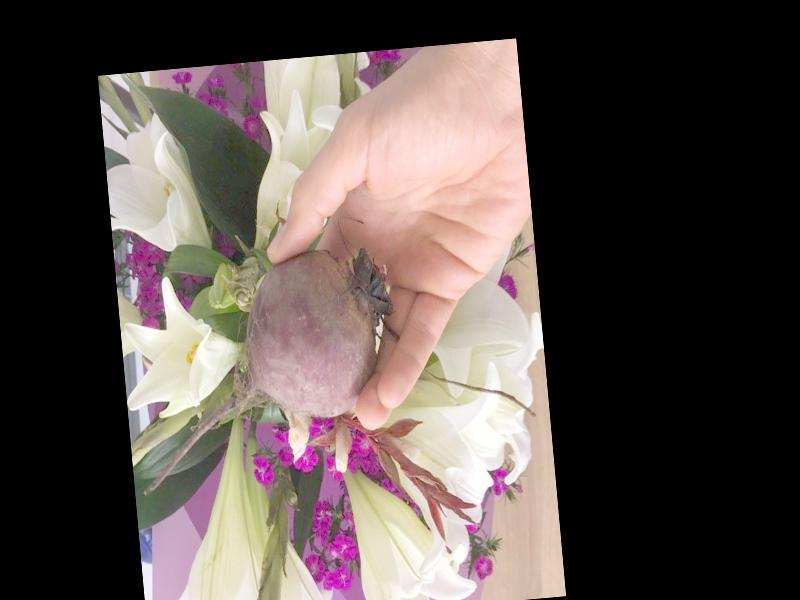Beet: (125, 244, 405, 496)
